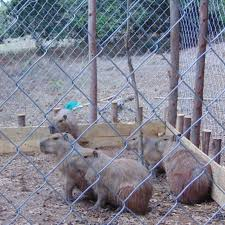capivara: (71, 148, 153, 215), (40, 132, 100, 202), (155, 134, 214, 204), (125, 133, 164, 172), (48, 109, 85, 142)
